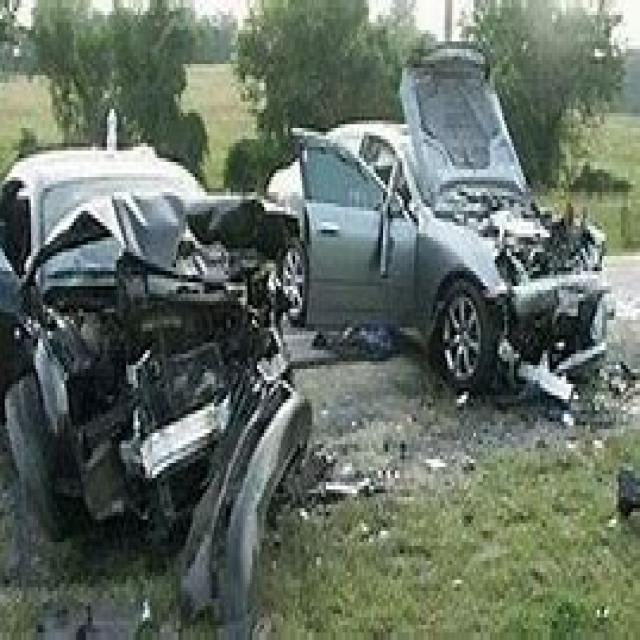Accident: (27, 74, 320, 525), (357, 59, 631, 448)
